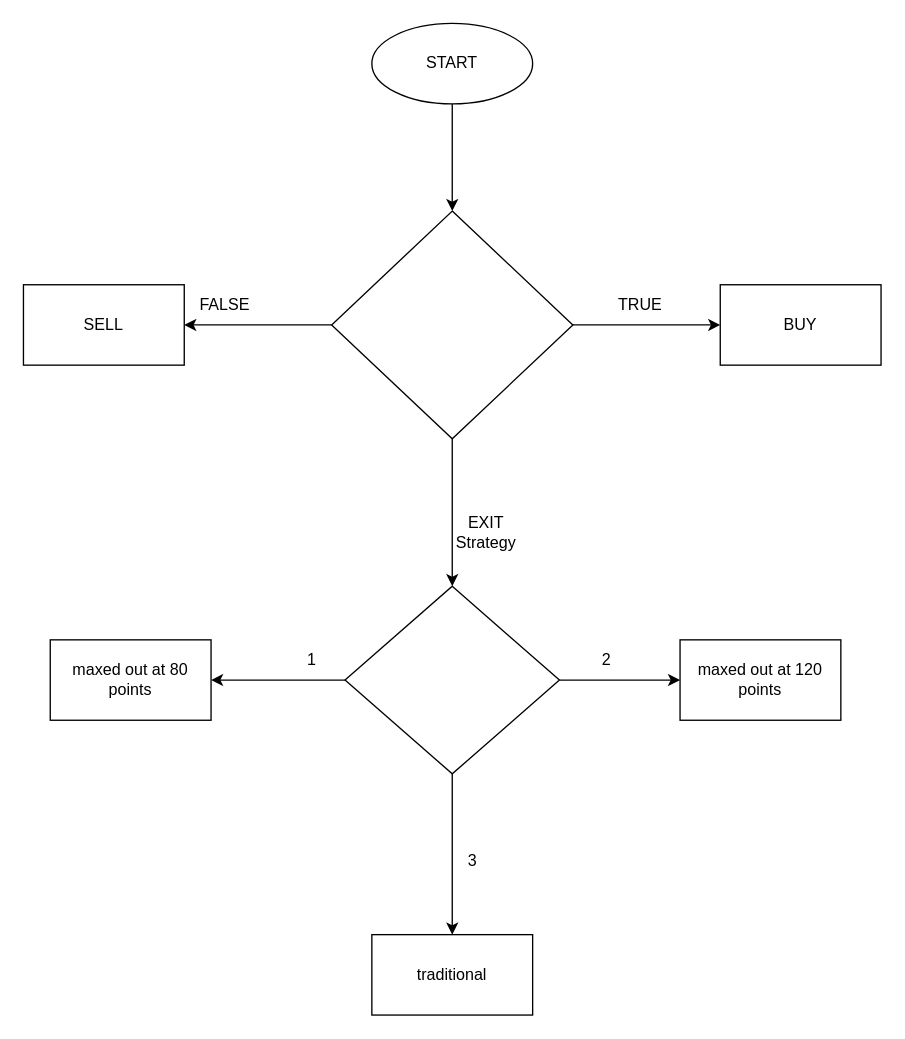
This 905x1039 diagram has some shape labels left out. Here are the shapes that lost their labels. From the top down, the box of each, then its label:
(330, 210, 573, 439): If at 15:15 absolute change > 0
(344, 585, 559, 774): Mulltiple EXIT Strategies
